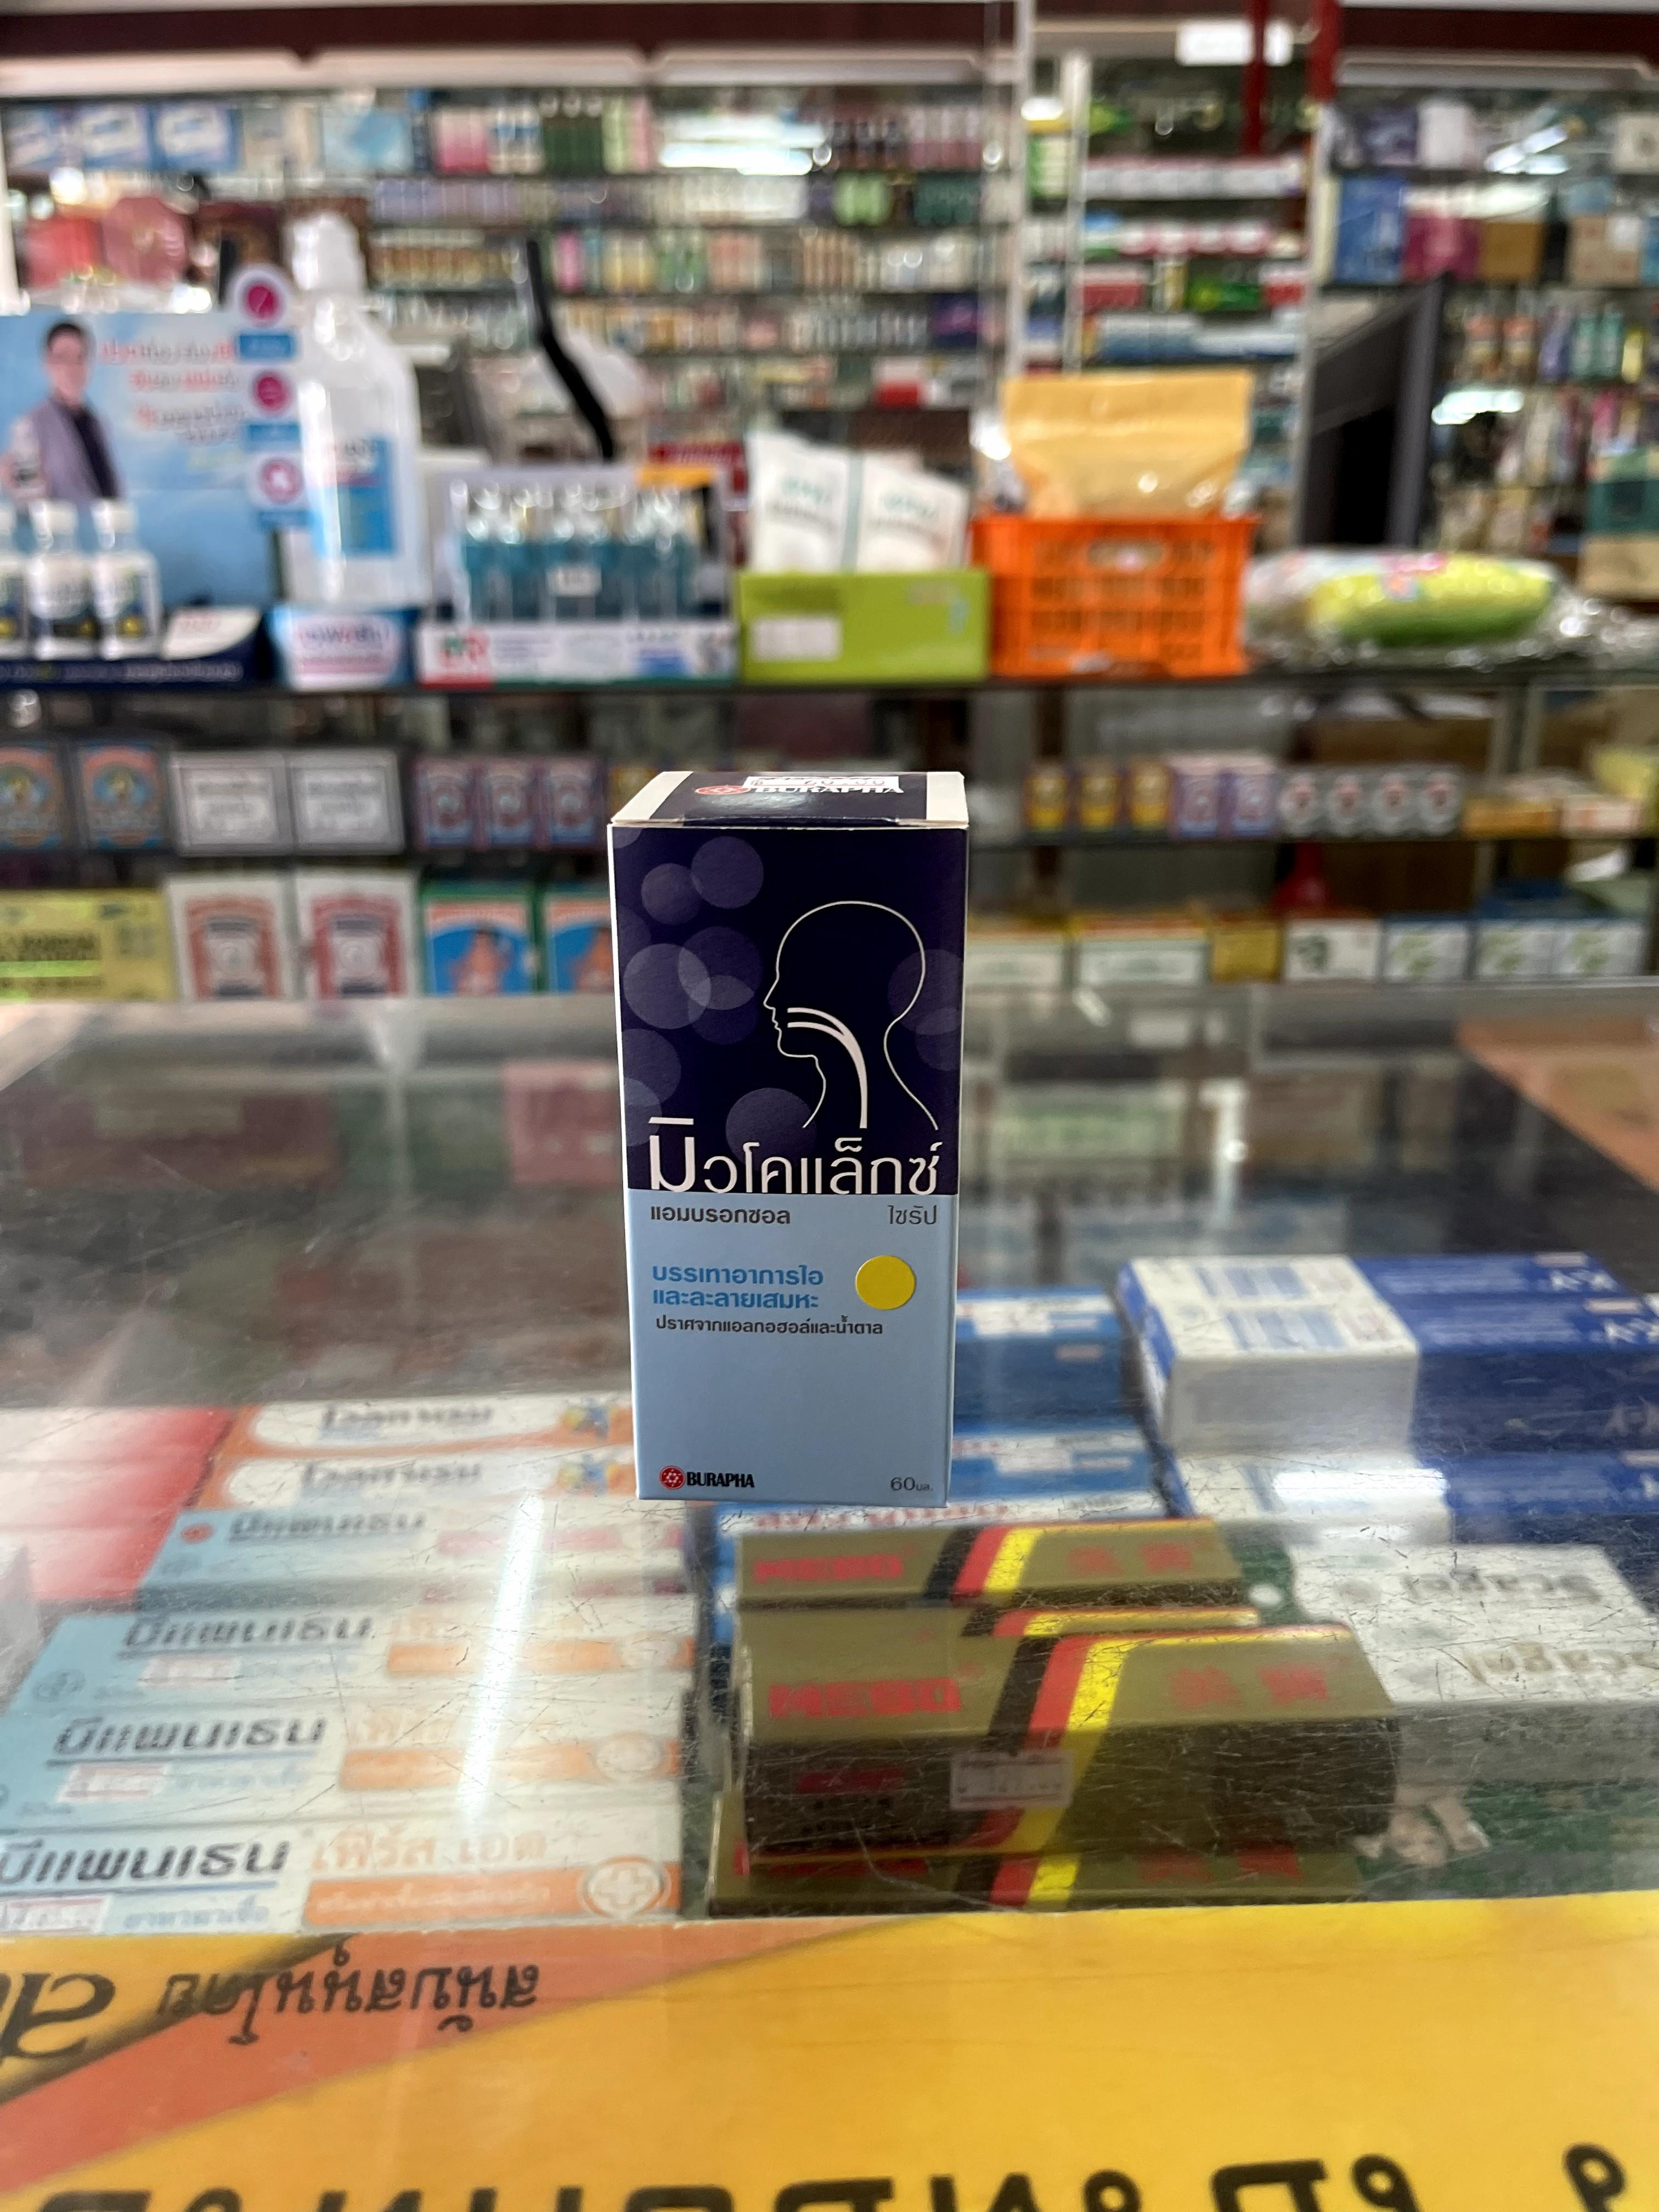Mucolax: (605, 766, 972, 1510)
